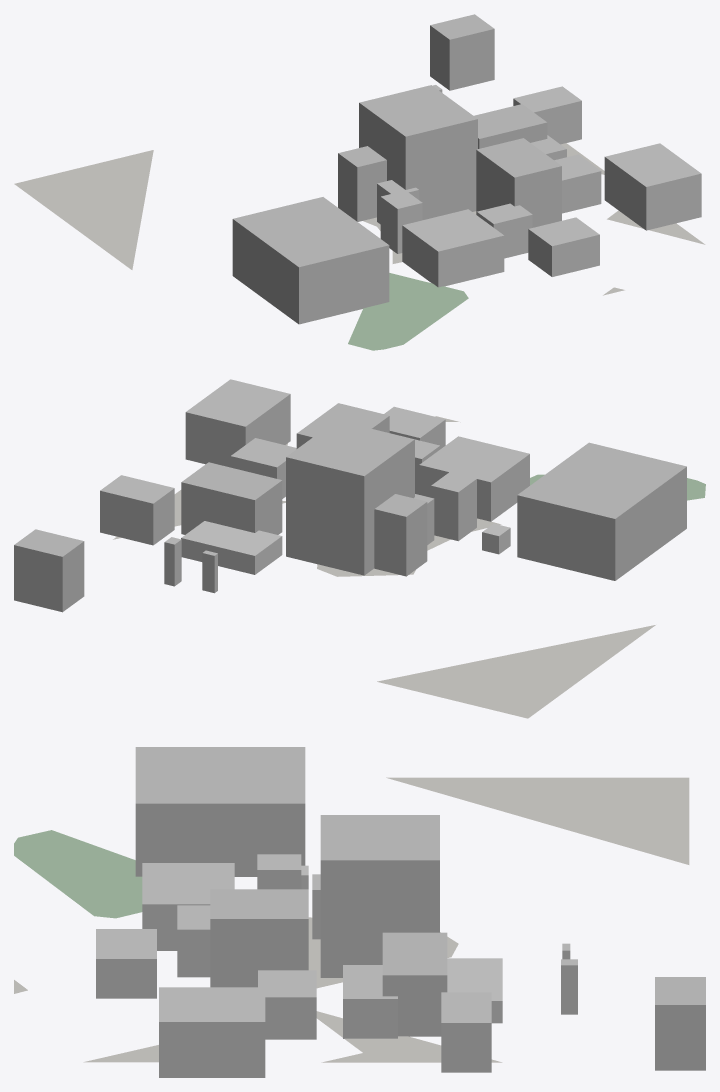
The model's file is 112_92_mid.glb.
3 views of the same model, one above another, from view 1: azimuth 30°, elevation 25°; view 2: azimuth 150°, elevation 25°; view 3: azimuth 270°, elevation 25° (orthographic). The views are drawn at different scales.
Bounding box in the file's own units: 528 × 96.51 × 512.
